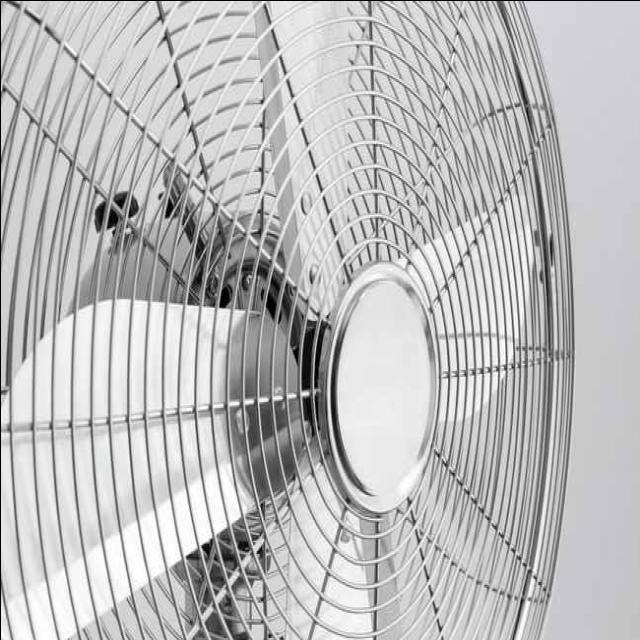fan: (3, 1, 574, 638)
